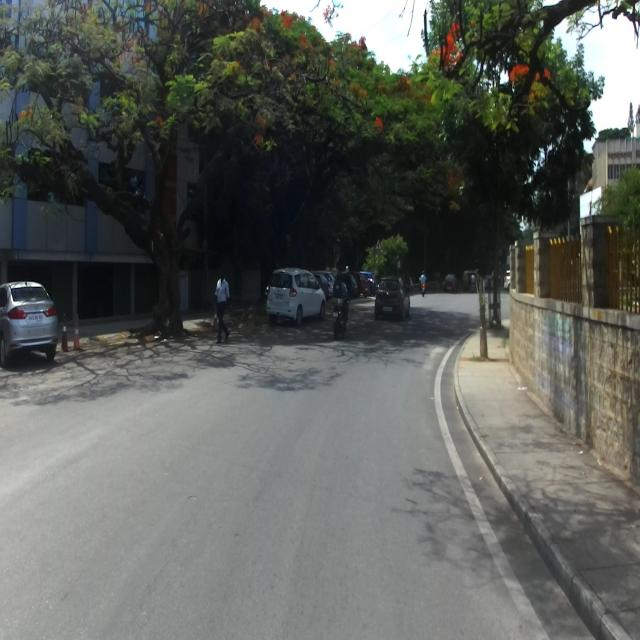car: (0, 280, 59, 367), (265, 267, 326, 325)
